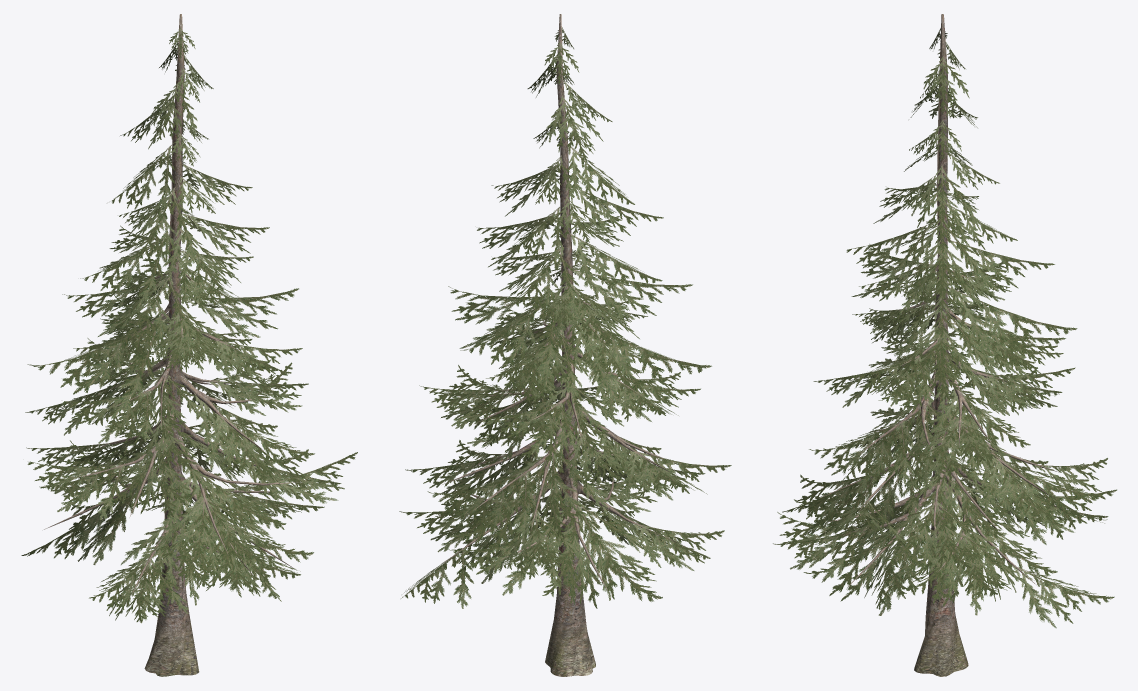
The model's file is Spruce_7.fbx.
3 views of the same model, side by side, from view 1: azimuth 30°, elevation 25°; view 2: azimuth 150°, elevation 25°; view 3: azimuth 270°, elevation 25° (orthographic).
Visible parts, largest first — view 1: spruce 2_1, spruce 1_0; view 2: spruce 2_1, spruce 1_0; view 3: spruce 2_1, spruce 1_0.
Boxes of the visible parts, x1,y1,x2,y2 form: spruce 2_1: [21, 27, 357, 623]; spruce 1_0: [44, 14, 299, 676]; spruce 2_1: [399, 27, 731, 608]; spruce 1_0: [442, 14, 681, 676]; spruce 2_1: [773, 28, 1116, 628]; spruce 1_0: [818, 14, 1067, 676].
Size of the model in its own units: 248 by 500 by 246.
2 materials, 2 textured.
